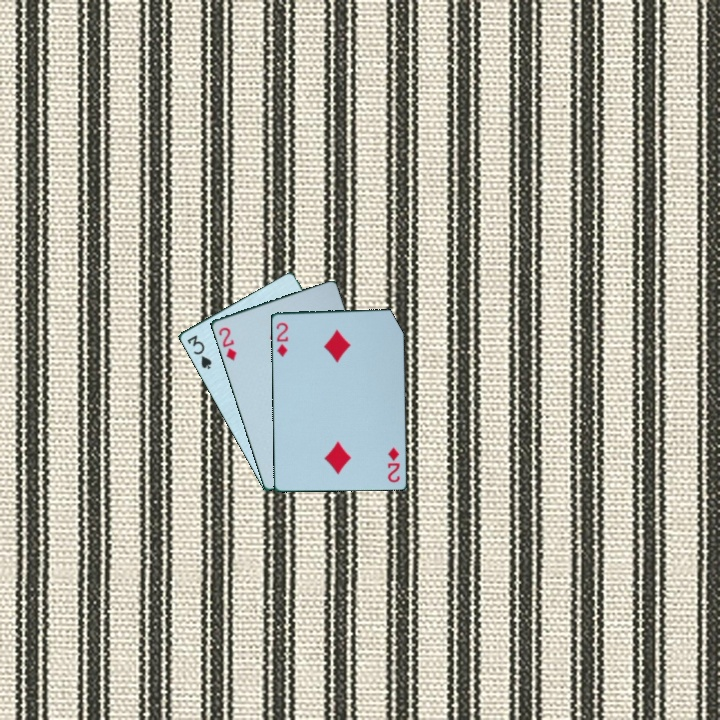2d: (215, 324, 239, 364), (384, 444, 404, 485), (273, 319, 291, 360)
3s: (183, 331, 214, 372)
